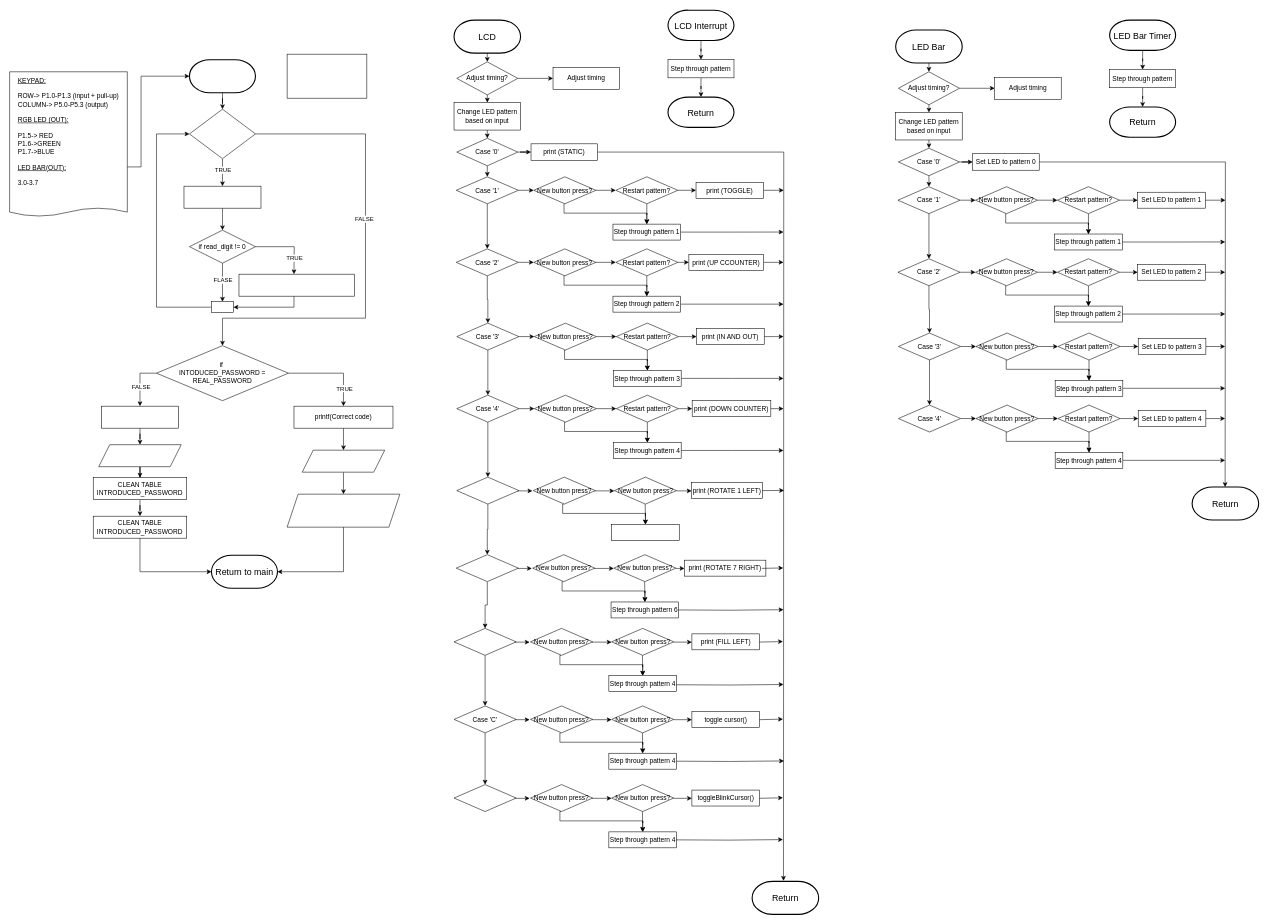
This 1269x924 diagram has some shape labels left out. Here are the shapes that lost their labels. From the top down, the box of each, then its label:
(189, 59, 256, 93): Main
(287, 54, 367, 98): InitializePorts_keypad() init_heartbeat() *TURN ON RED LED
(189, 109, 255, 159): counter<TABLE_SIZE
(183, 186, 261, 208): CALL System_Unlocking() *We turn ON yellow LED here
(238, 274, 354, 296): introduced_password [counter] = key counter++
(211, 301, 233, 313): ENDIF
(101, 406, 178, 428): printf(Incorrect code)
(98, 444, 181, 467): continue_rgb_led(3) *RED LED ON
(302, 450, 385, 472): continue_rgb_led(1) *BLUE LED ON
(287, 494, 400, 527): System_Unlocked()
(456, 477, 519, 504): Case '5'
(611, 524, 679, 540): Step through pattern 5
(456, 554, 518, 582): Case '6'
(453, 628, 516, 655): Case '7'
(453, 784, 516, 812): Case '9'
